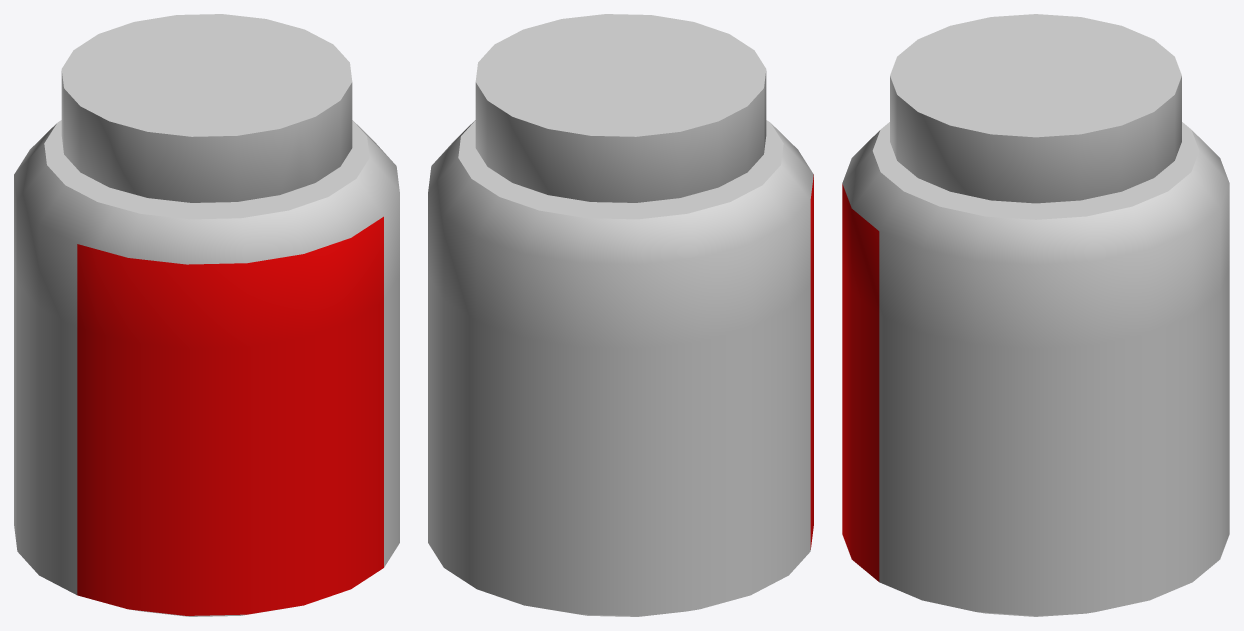
Rendered from Pill Bottle.fbx.
3 renders of one model, left to right at view 1: azimuth 30°, elevation 25°; view 2: azimuth 150°, elevation 25°; view 3: azimuth 270°, elevation 25°, orthographic.
Visible parts, largest first — view 1: pCylinder1; view 2: pCylinder1; view 3: pCylinder1.
Part boxes in pixels (left/top/right/bottom): pCylinder1: left=14, top=14, right=399, bottom=616; pCylinder1: left=428, top=14, right=813, bottom=616; pCylinder1: left=842, top=14, right=1229, bottom=616.
Bounding box in the file's own units: 9.82 × 13.23 × 9.82.
